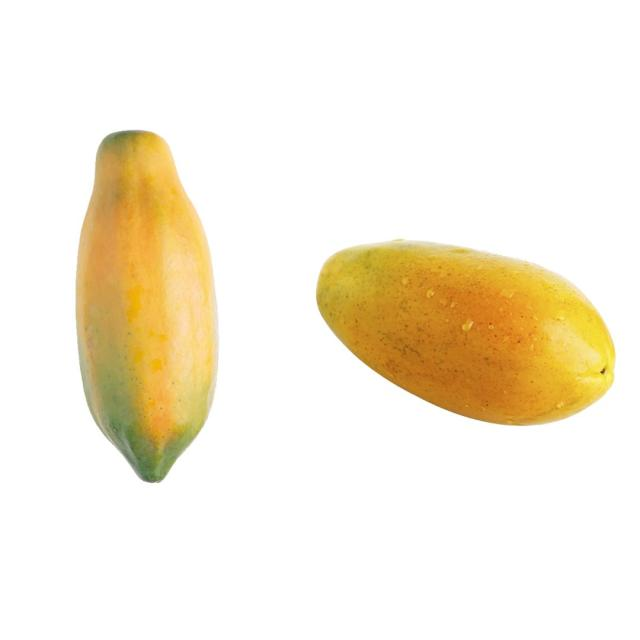Pepaya: (314, 237, 616, 426), (74, 128, 219, 483)
